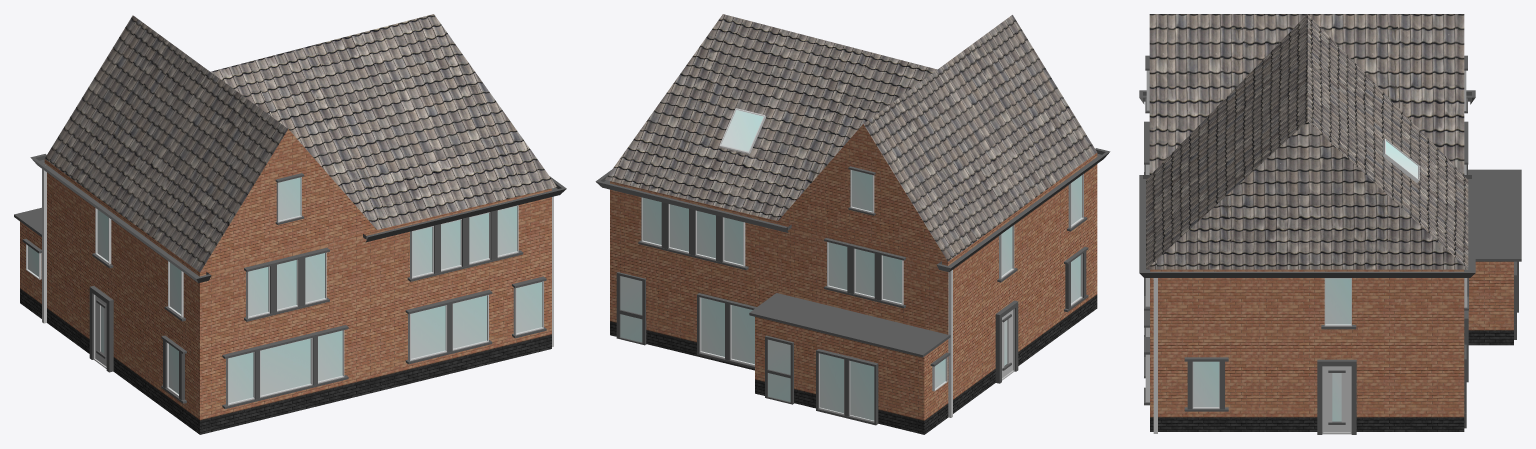
File: Greide 26 en 28.fbx
3 views of the same model, side by side, from view 1: azimuth 30°, elevation 25°; view 2: azimuth 150°, elevation 25°; view 3: azimuth 270°, elevation 25° (orthographic). The views are drawn at different scales.
Parts seen in each view (by area): view 1: Greide_26_en_28; view 2: Greide_26_en_28; view 3: Greide_26_en_28.
Boxes of the visible parts, x1,y1,x2,y2 form: Greide_26_en_28: (14,14,566,434); Greide_26_en_28: (595,14,1110,434); Greide_26_en_28: (1139,14,1521,434).
Bounding box in the file's own units: 13.75 × 10.24 × 12.16.
1 material, 1 textured.
